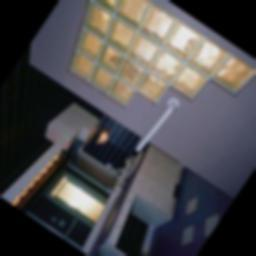Puerta: (30, 0, 256, 199)
